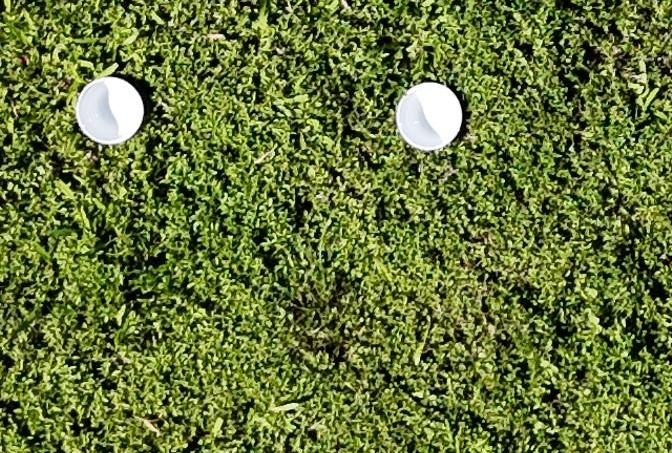bowl: (74, 77, 145, 147), (394, 82, 464, 152)
